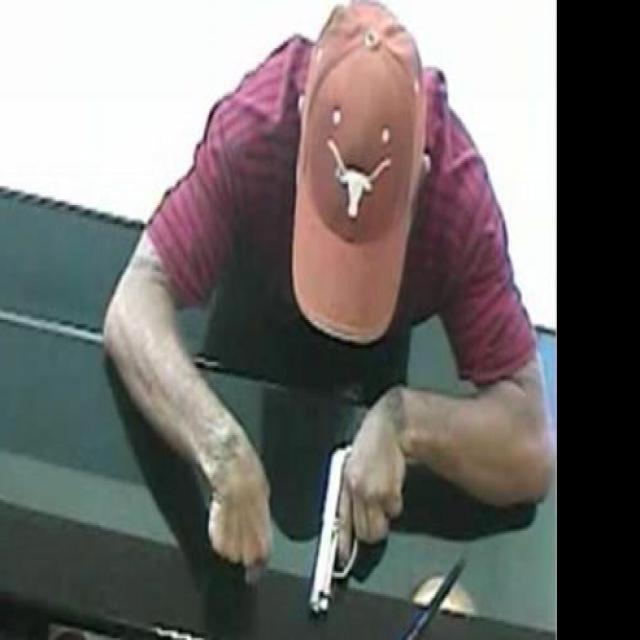weapon: (308, 438, 369, 615)
